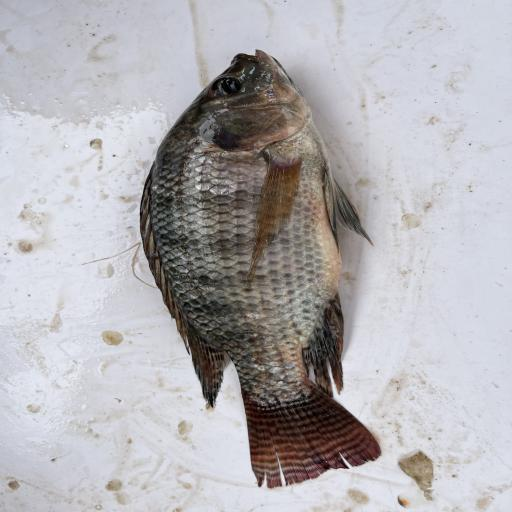Tilapia: (140, 49, 382, 489)
